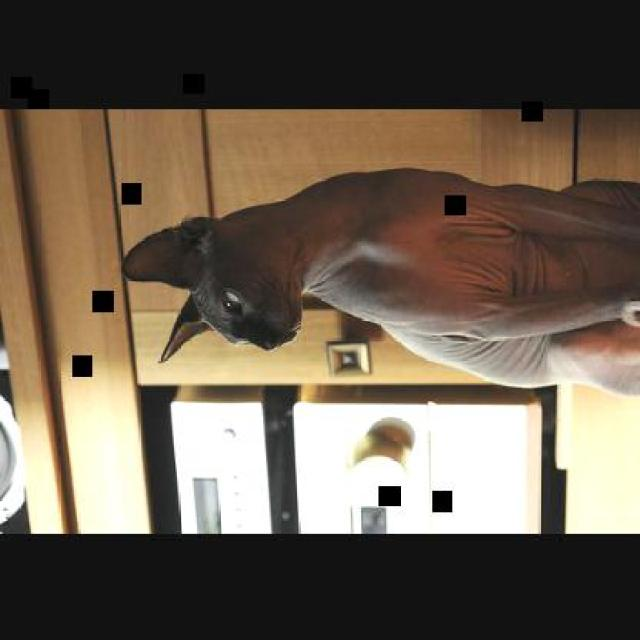unauthorized: (120, 164, 638, 396)
